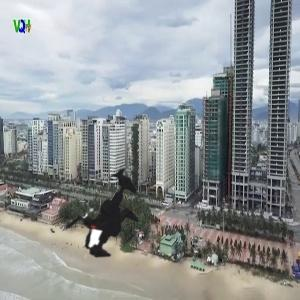drone: (33, 141, 175, 283)
